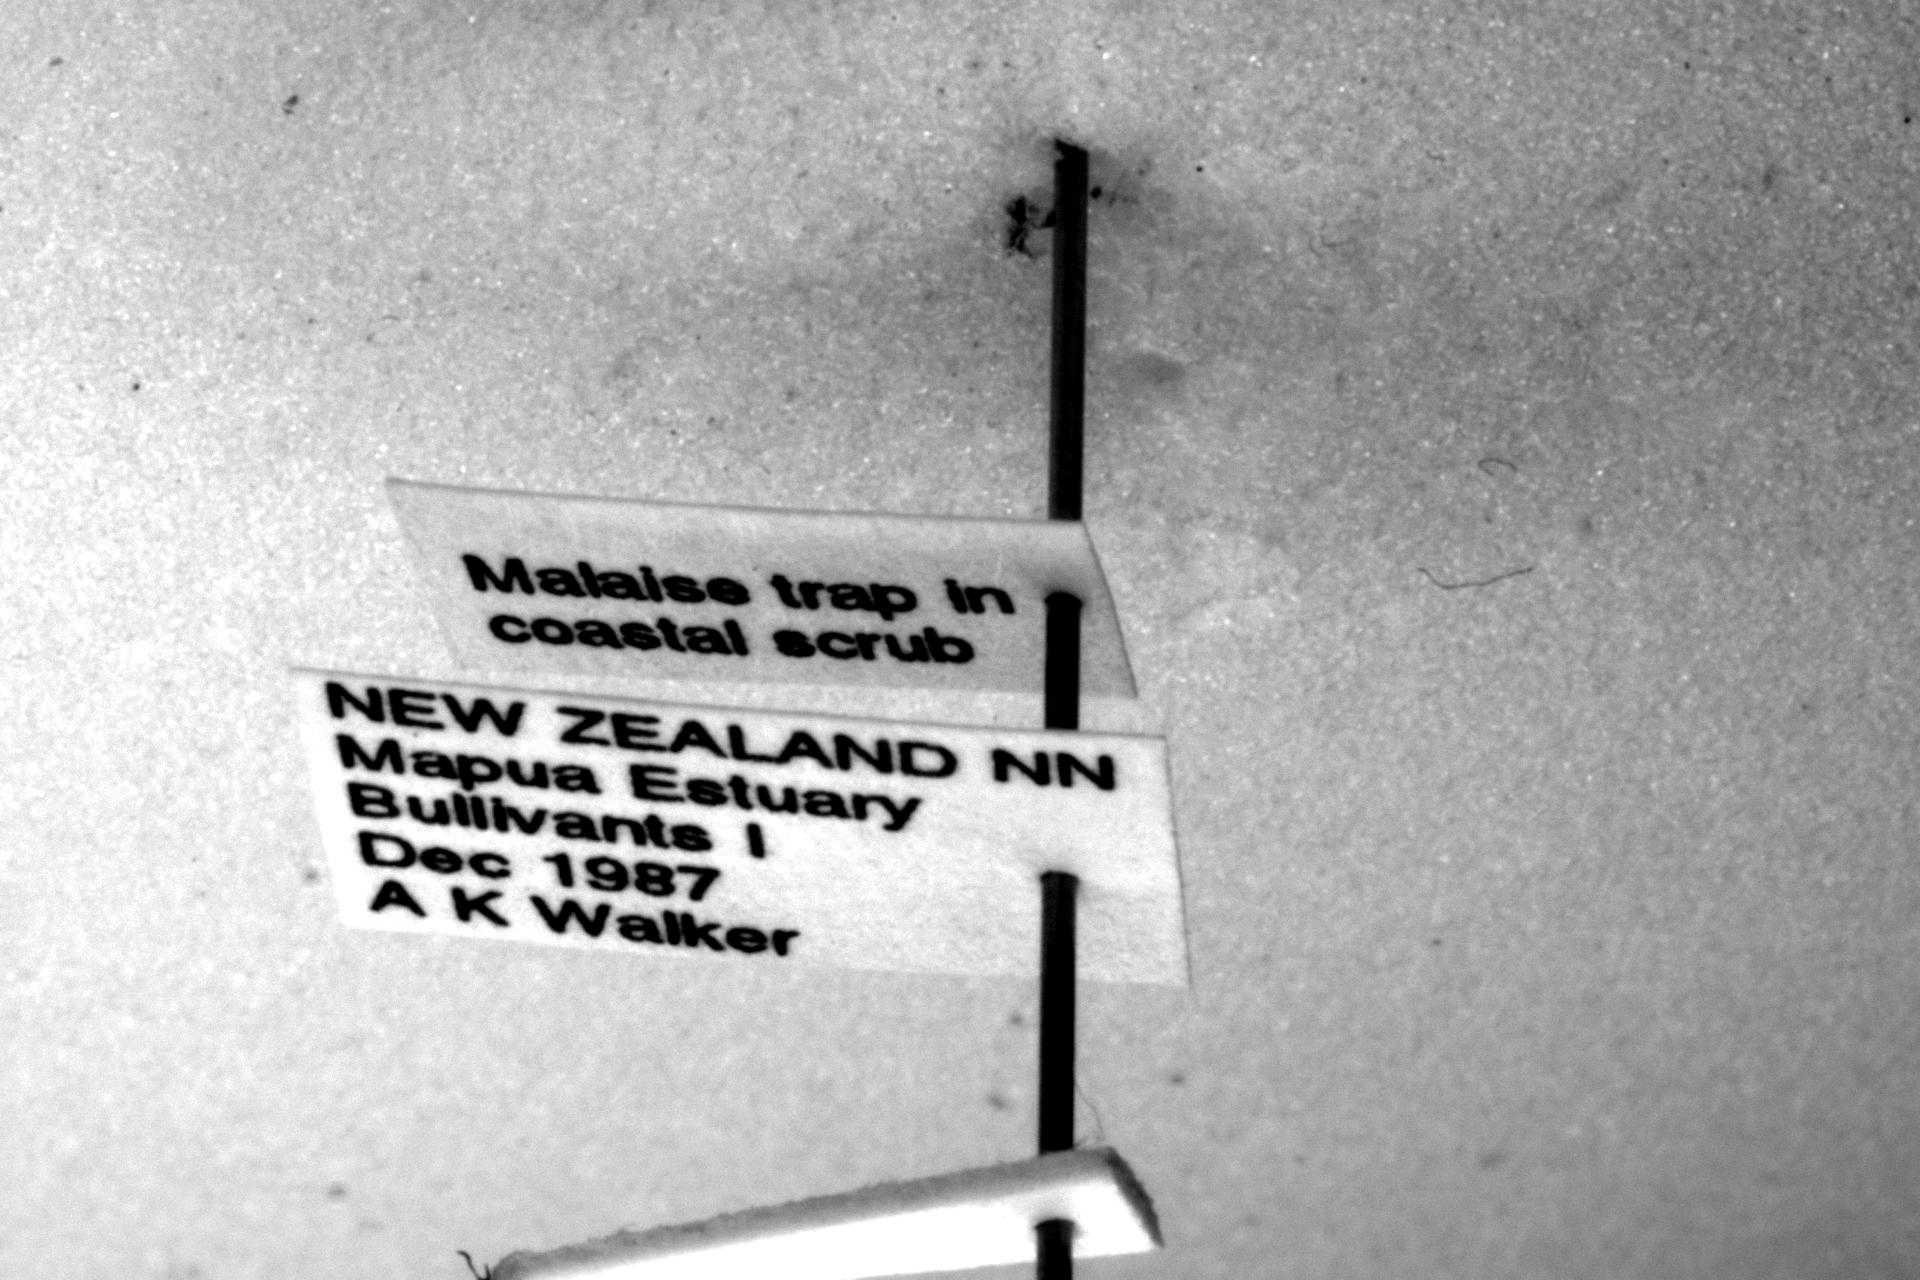typed_label: (293, 671, 1189, 986), (386, 480, 1136, 697)
